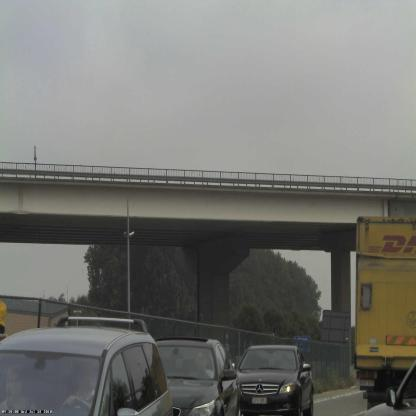other: (356, 209, 416, 370)
